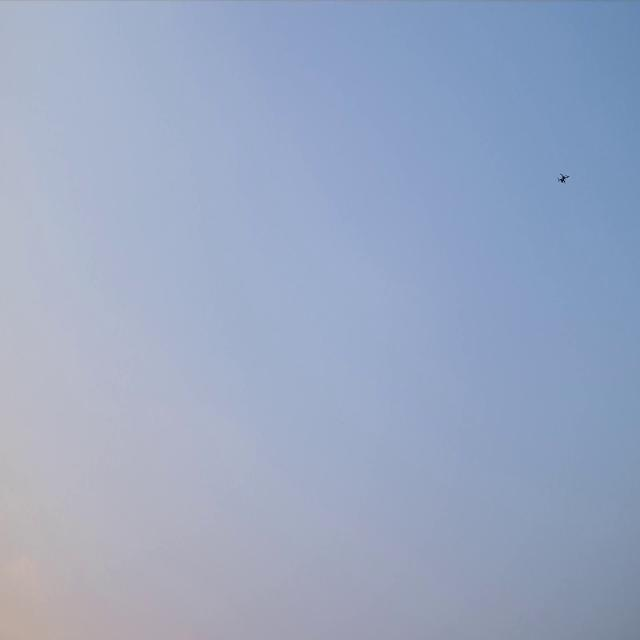UAV: (558, 174, 568, 182)
